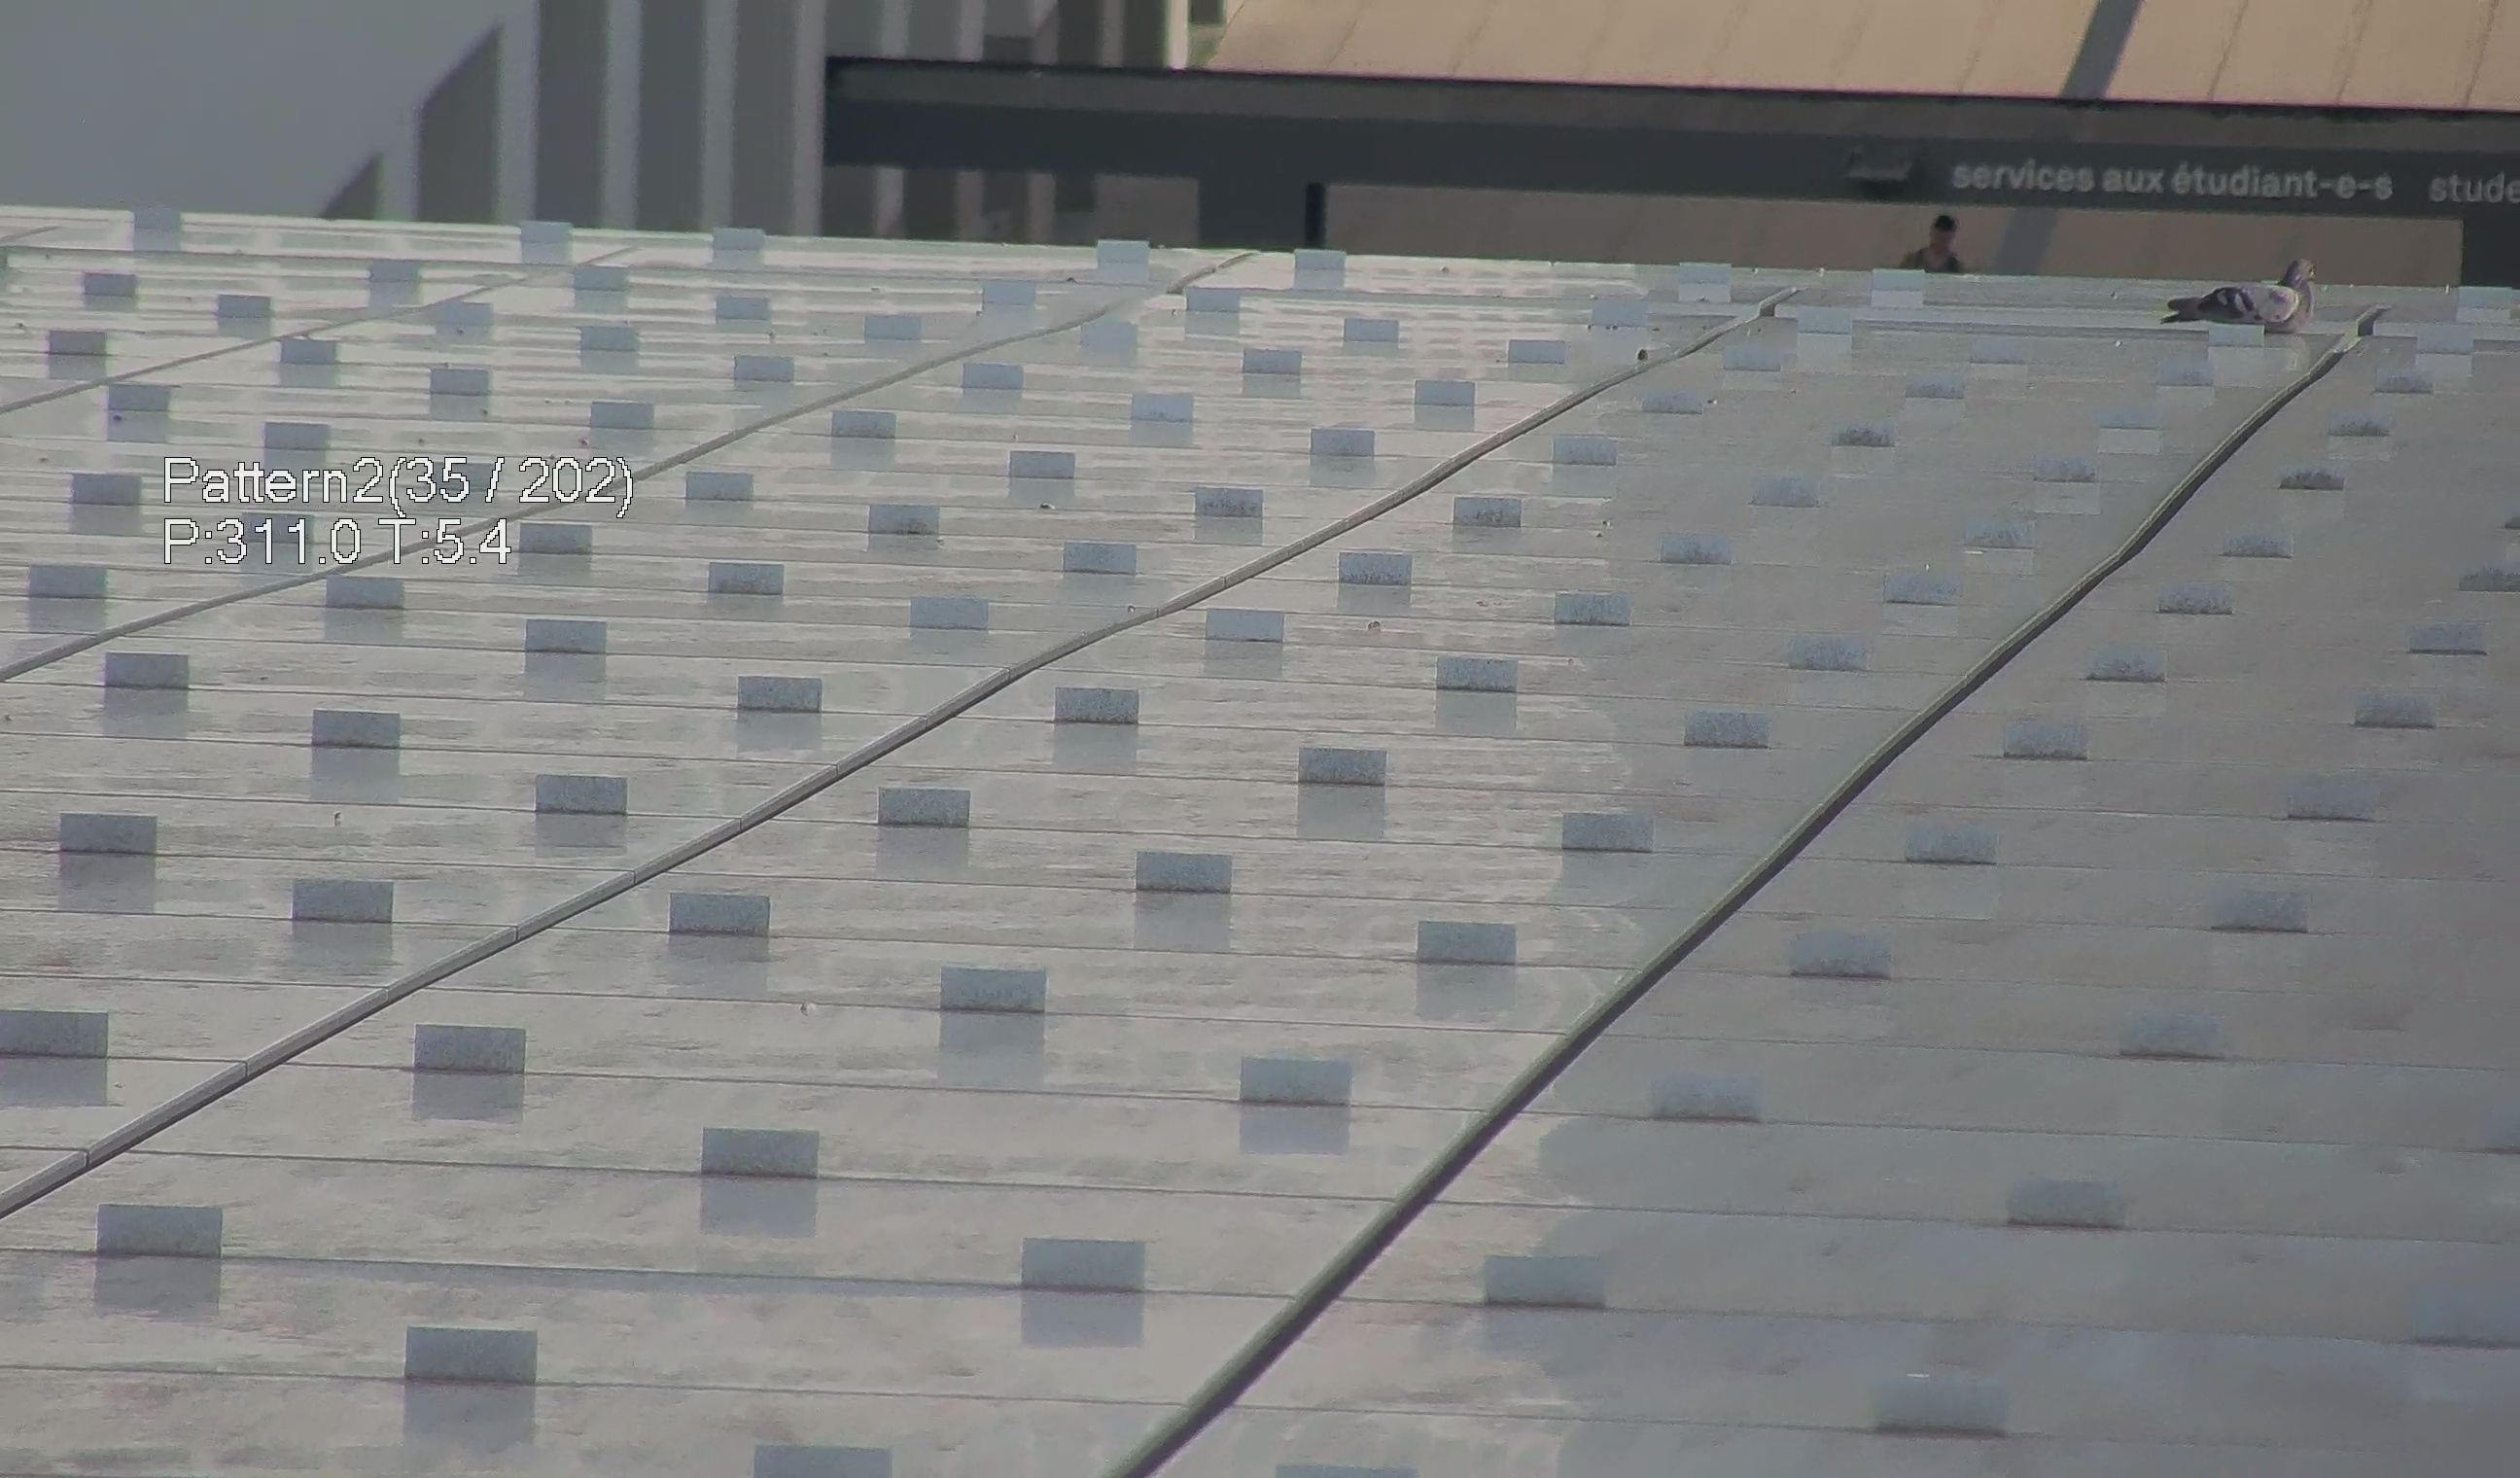Pigeon: (2165, 253, 2327, 327)
